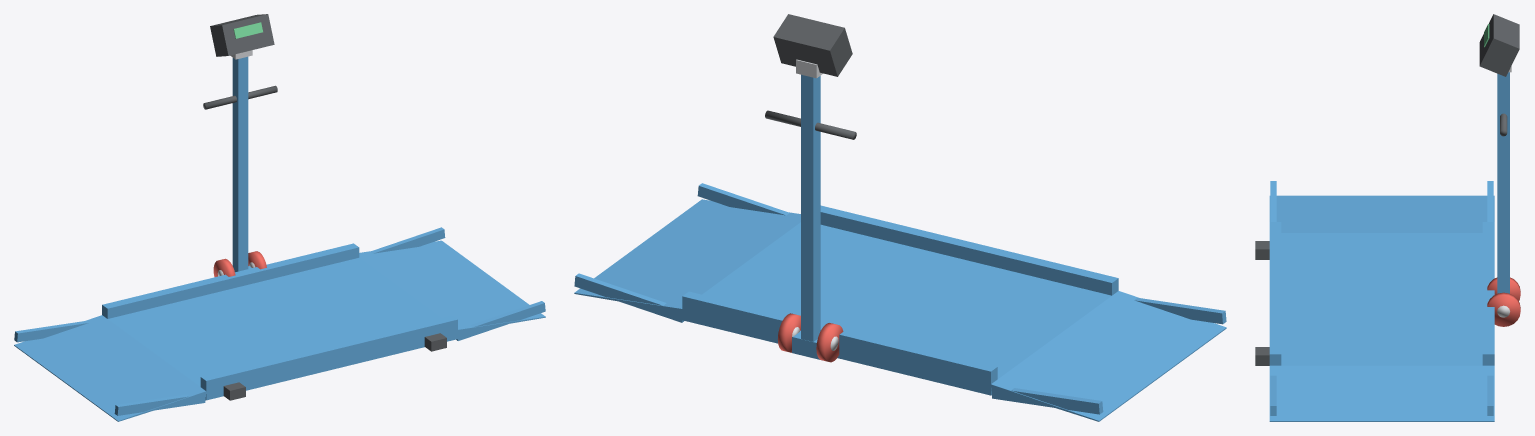
File: WeightScalling.fbx
The picture shows the model from 3 angles, left to right: view 1: azimuth 30°, elevation 25°; view 2: azimuth 150°, elevation 25°; view 3: azimuth 270°, elevation 25°; orthographic projection. The views are drawn at different scales.
Parts seen in each view (by area): view 1: Industrial_Cargo_Floor_Scale; view 2: Industrial_Cargo_Floor_Scale; view 3: Industrial_Cargo_Floor_Scale.
Part boxes in pixels (left/top/right/bottom): Industrial_Cargo_Floor_Scale: left=14, top=14, right=545, bottom=421; Industrial_Cargo_Floor_Scale: left=574, top=14, right=1226, bottom=421; Industrial_Cargo_Floor_Scale: left=1255, top=14, right=1520, bottom=421.
Bounding box in the file's own units: 204 × 124 × 101.
